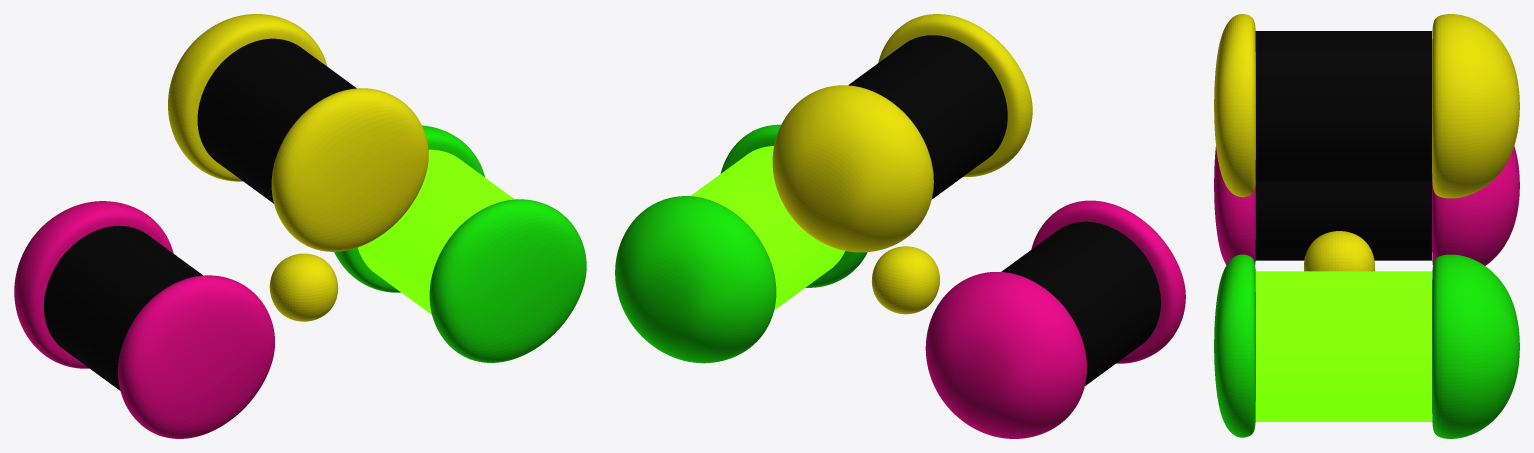
File: Verde_Orbes.fbx
3 views of the same model, side by side, from view 1: azimuth 30°, elevation 25°; view 2: azimuth 150°, elevation 25°; view 3: azimuth 270°, elevation 25° (orthographic). The views are drawn at different scales.
Parts seen in each view (by area): view 1: Cubo; view 2: Cubo; view 3: Cubo.
Boxes of the visible parts, box(x1,y1,x2,y2) form: Cubo: box(14, 14, 586, 438); Cubo: box(615, 14, 1185, 438); Cubo: box(1214, 14, 1519, 438).
Bounding box in the file's own units: 73.32 × 46.6 × 39.58.
